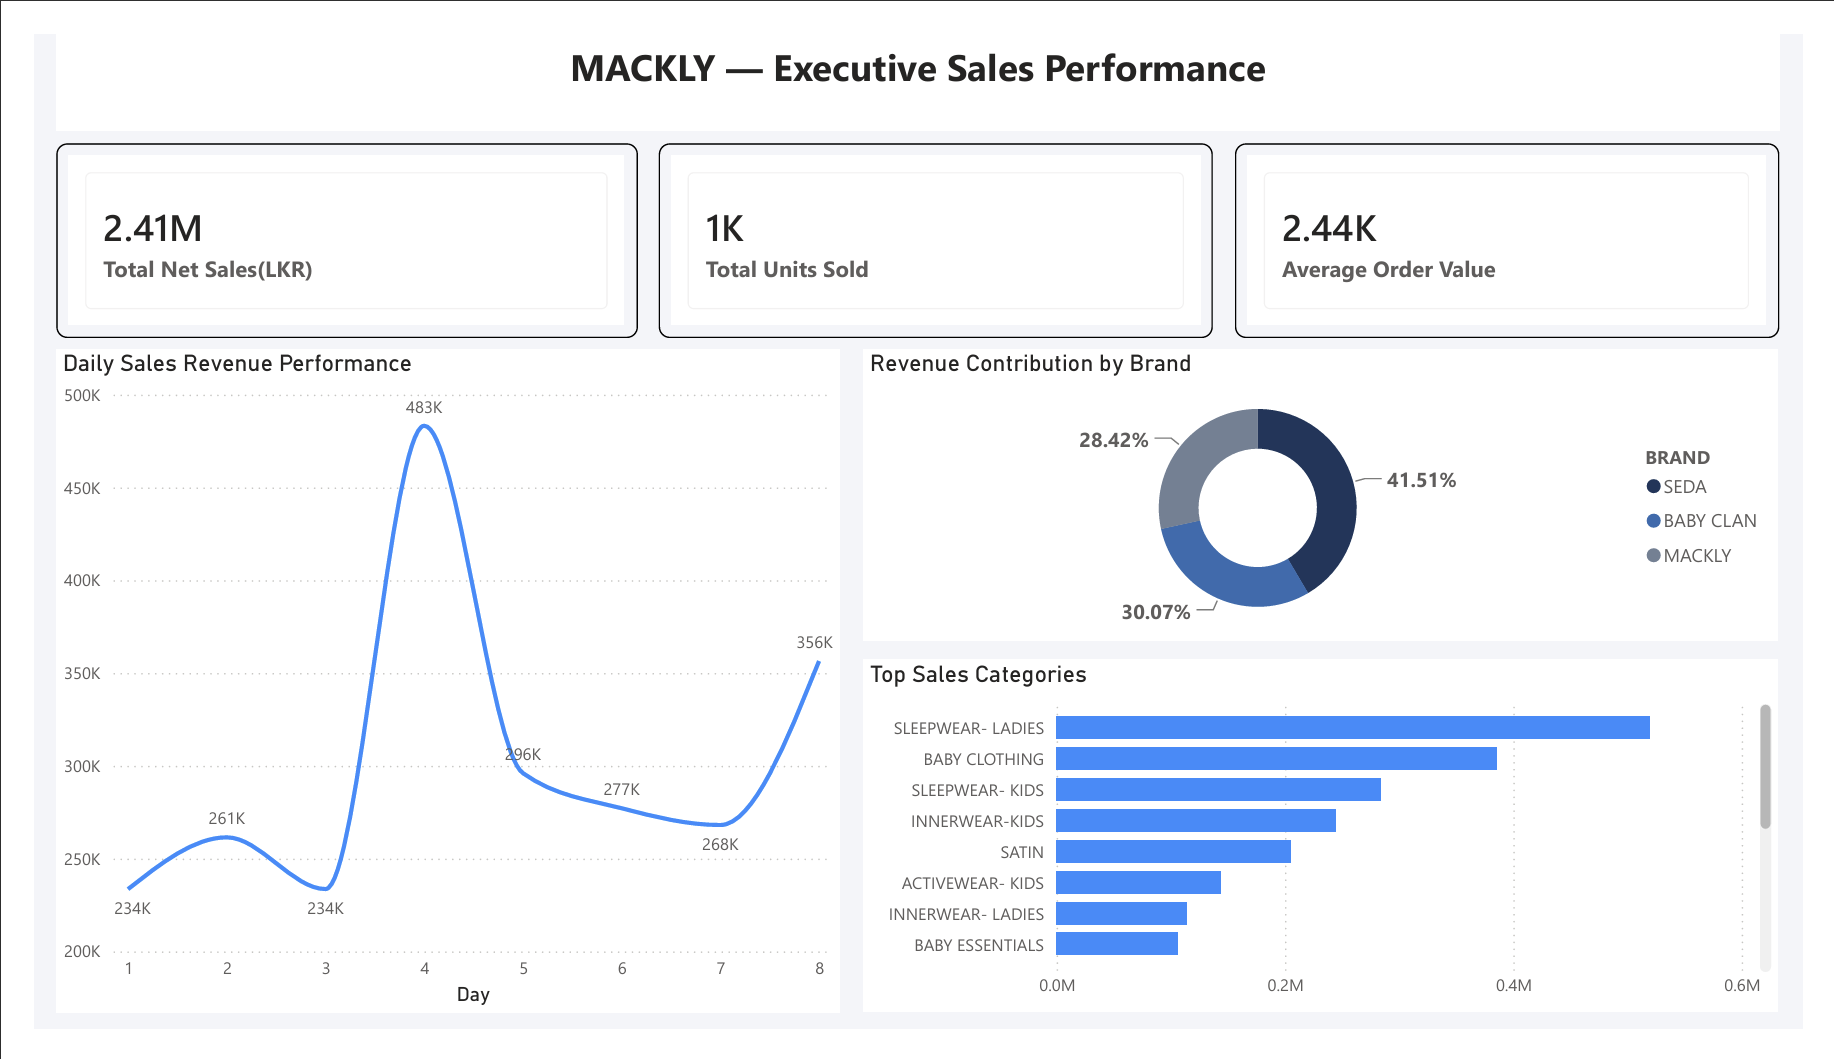

Layout of this report page (visuals, bound fields, positions):
{"tool":"powerbi","page":{"name":"Executive Sales Performance","canvas":[1280,720],"ordinal":0},"visuals":[{"type":"textbox","box":[16,0,1246.6,69.9],"z":0},{"type":"cardVisual","fields":{"Data":["Sum(Data.net sale)"]},"box":[16,78.5,420.9,141.1],"z":1000},{"type":"cardVisual","fields":{"Data":["Sum(Data.QTY)"]},"box":[451.5,78.5,401.2,141.1],"z":2000},{"type":"cardVisual","fields":{"Data":["Avg(Data.net sale)"]},"box":[868.7,78.5,393.9,141.1],"z":3000},{"type":"lineChart","title":"Daily Sales Revenue Performance","fields":{"Category":["Data.Transaction Date.Variation.Date Hierarchy.Day"],"Y":["Sum(Data.net sale)"]},"box":[16.2,227.6,567.2,480.2],"z":4000},{"type":"clusteredBarChart","title":"Top Sales Categories","fields":{"Category":["Data.SubCategory"],"Y":["Sum(Data.net sale)"]},"box":[599.7,452.8,662.8,255.2],"z":5000},{"type":"donutChart","title":"Revenue Contribution by Brand","fields":{"Category":["Data.BRAND"],"Y":["Sum(Data.net sale)"]},"box":[599.7,227.8,662.8,211.3],"z":6000}]}

Visuals, with their boxes in screenshot pixels (x1, y1, x2, y2), scaled from the page's 1280x720 canvas onto the 1834x1059 screenshot:
textbox: bbox(23, 0, 1809, 103)
cardVisual - Sum(Data.net sale): bbox(23, 115, 626, 323)
cardVisual - Sum(Data.QTY): bbox(647, 115, 1222, 323)
cardVisual - Avg(Data.net sale): bbox(1245, 115, 1809, 323)
"Daily Sales Revenue Performance" lineChart: bbox(23, 335, 836, 1041)
"Top Sales Categories" clusteredBarChart: bbox(859, 666, 1809, 1041)
"Revenue Contribution by Brand" donutChart: bbox(859, 335, 1809, 646)
